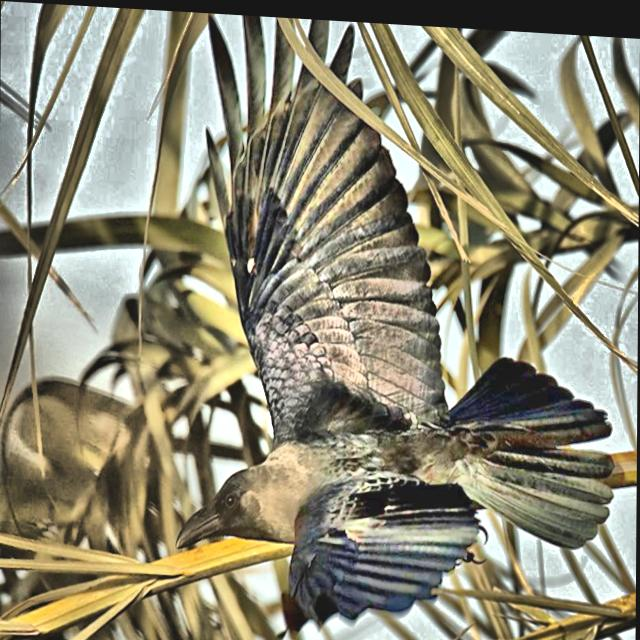crow: (142, 47, 625, 640)
